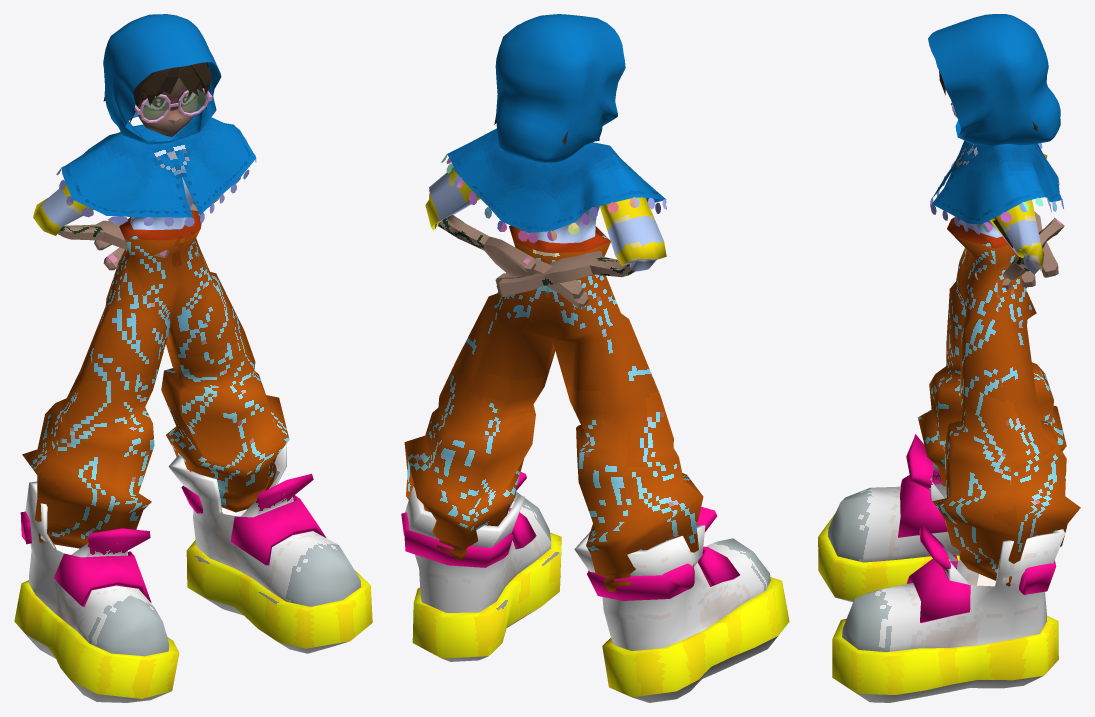
Rendered from Alan.glb.
3 renders of one model, left to right at view 1: azimuth 30°, elevation 25°; view 2: azimuth 150°, elevation 25°; view 3: azimuth 270°, elevation 25°, orthographic. The views are drawn at different scales.
Parts seen in each view (by area): view 1: Retopo_body_base.001, KeyframeChef_LowPoly_Base.002, Narrow_Face, defaultMaterial, Plane; view 2: Retopo_body_base.001, KeyframeChef_LowPoly_Base.002, Plane; view 3: Retopo_body_base.001, KeyframeChef_LowPoly_Base.002, Plane.
Boxes of the visible parts, left/top/right/bottom form: Retopo_body_base.001: left=14, top=14, right=372, bottom=702; KeyframeChef_LowPoly_Base.002: left=58, top=77, right=223, bottom=270; Narrow_Face: left=103, top=62, right=211, bottom=123; defaultMaterial: left=134, top=88, right=212, bottom=122; Plane: left=56, top=124, right=256, bottom=226; Retopo_body_base.001: left=401, top=14, right=789, bottom=702; KeyframeChef_LowPoly_Base.002: left=438, top=215, right=654, bottom=309; Plane: left=441, top=154, right=666, bottom=242; Retopo_body_base.001: left=818, top=14, right=1080, bottom=702; KeyframeChef_LowPoly_Base.002: left=951, top=103, right=1064, bottom=289; Plane: left=930, top=143, right=1063, bottom=234.
Bounding box in the file's own units: 0.9081 × 1.78 × 0.6825.
Materials: 2 (2 with a texture image).
